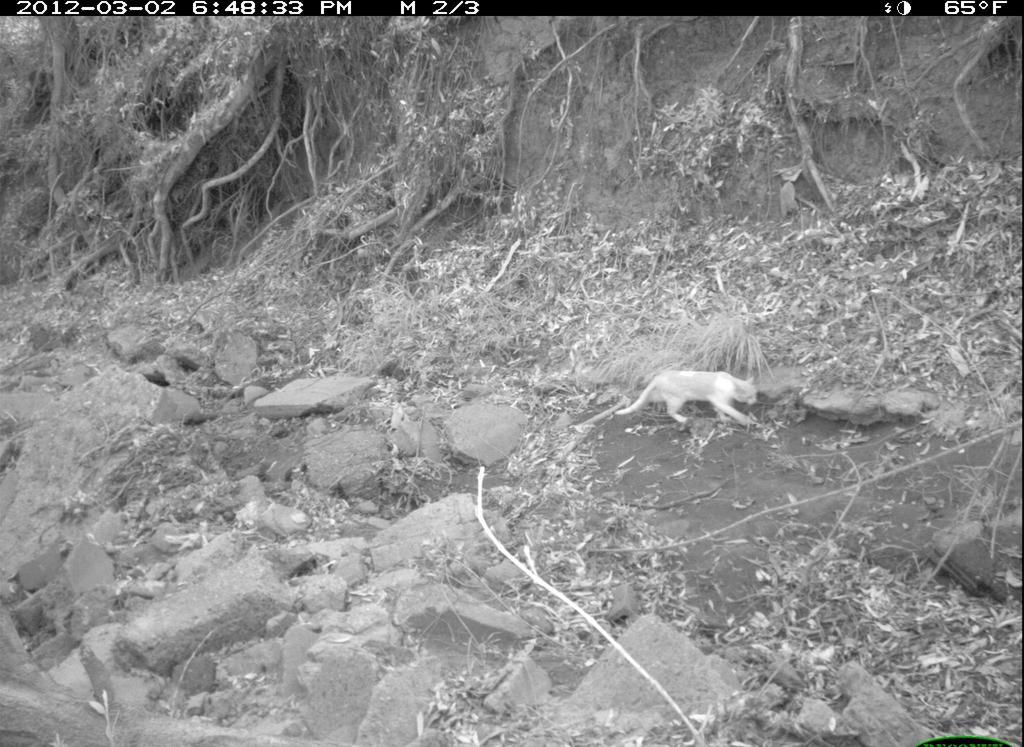cat: (606, 356, 783, 451)
